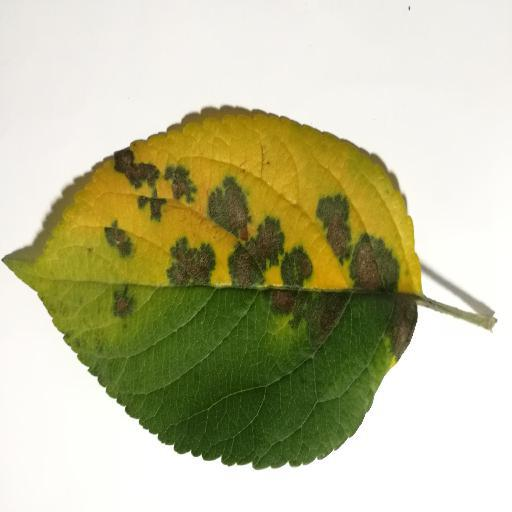Brown_Spot: (82, 153, 441, 343)
